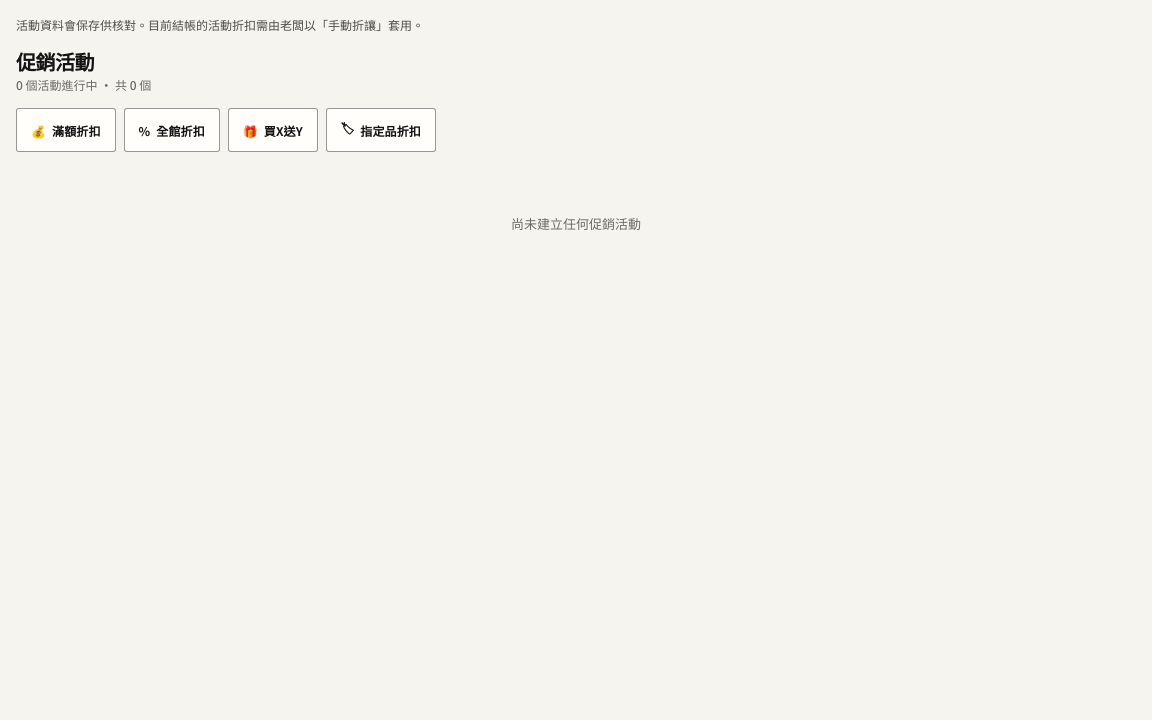
Test case: a reversed activity period preserves inputs and rejects saving
Click the button "💰 滿額折扣".
click(66, 130)  # box x1=16 y1=108 x2=116 y2=152
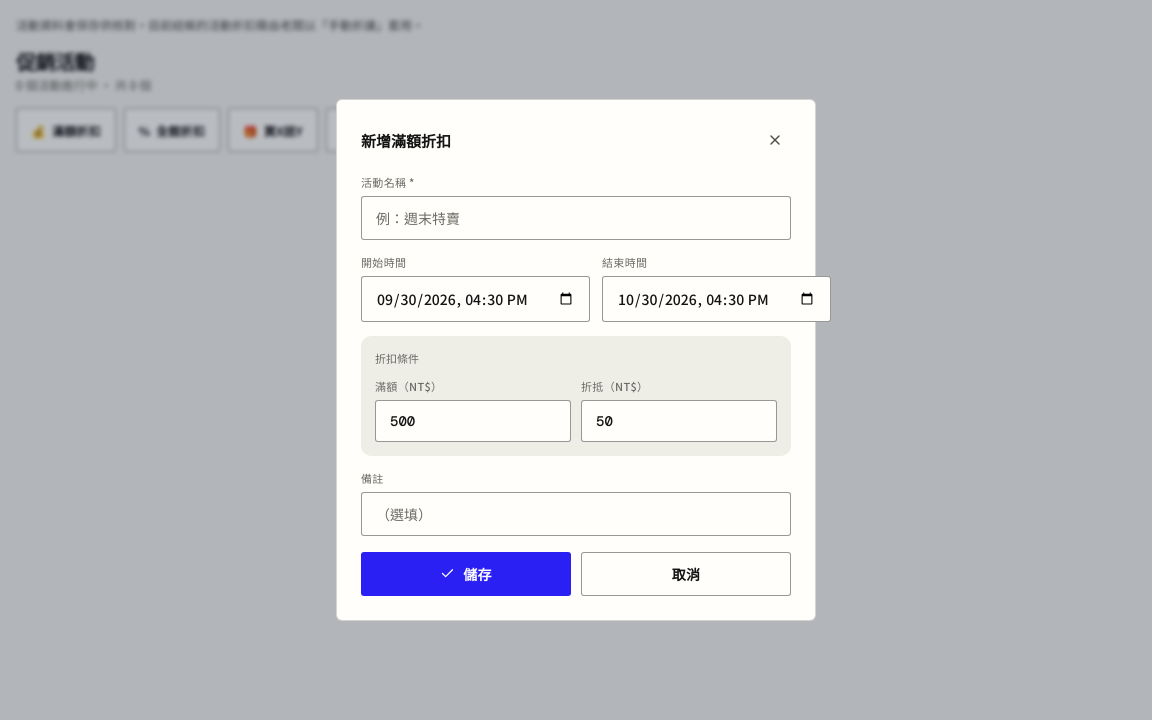
Type "fixture" into the field with placeholder "例：週末特賣".
click(576, 218); type("fixture")  # box x1=361 y1=196 x2=791 y2=240
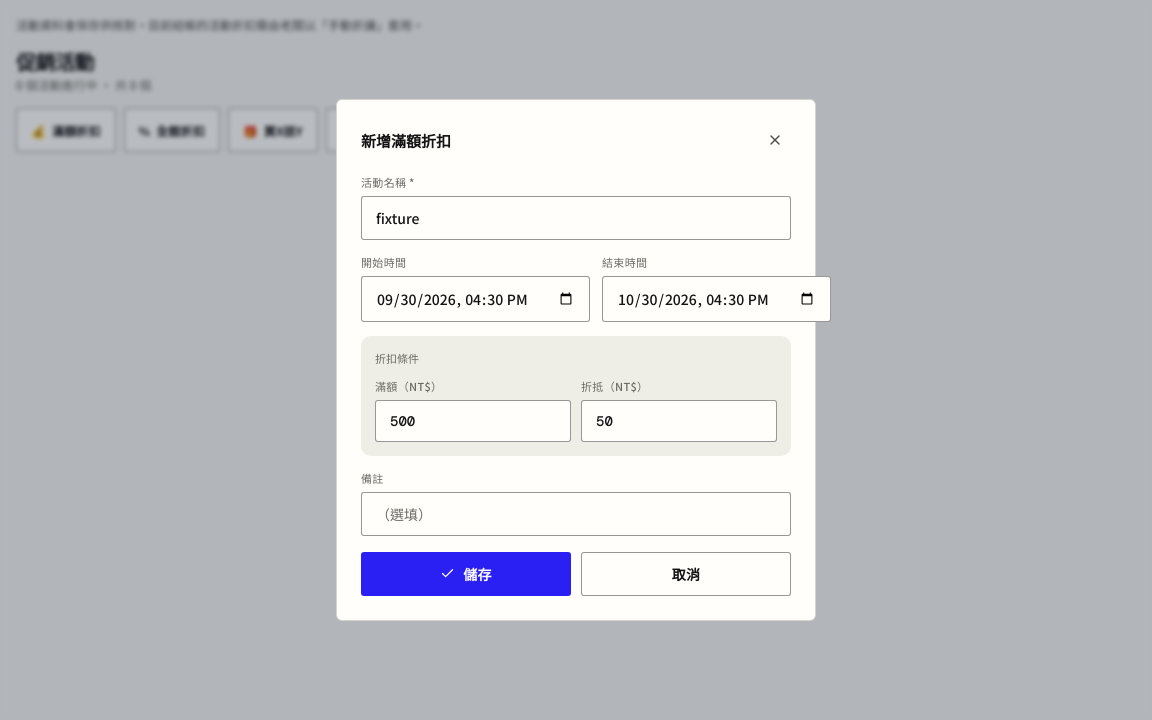
Replace the text in the field below "開始時間" with "2026-10-01T01:00" at {"x": 476, "y": 300}, box x1=361 y1=276 x2=590 y2=322
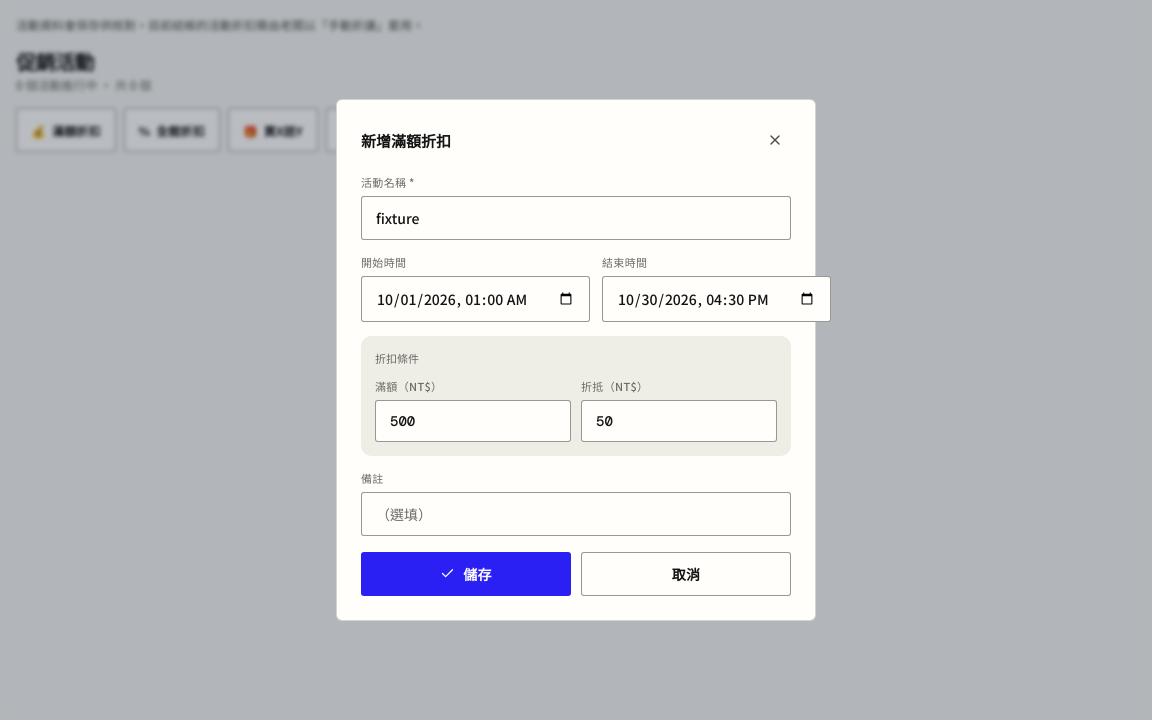
Replace the text in the field below "結束時間" with "2026-10-01T00:00" at {"x": 716, "y": 300}, box x1=602 y1=276 x2=831 y2=322
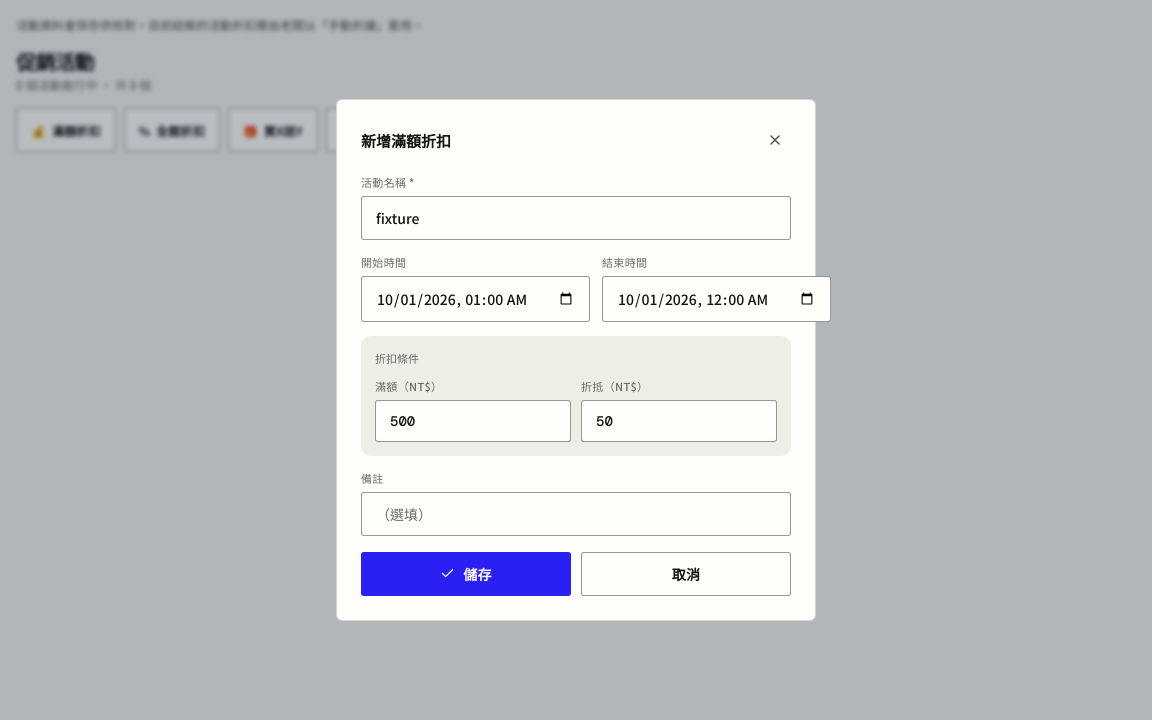
Click the button "儲存".
click(466, 574)  # box x1=361 y1=552 x2=571 y2=596
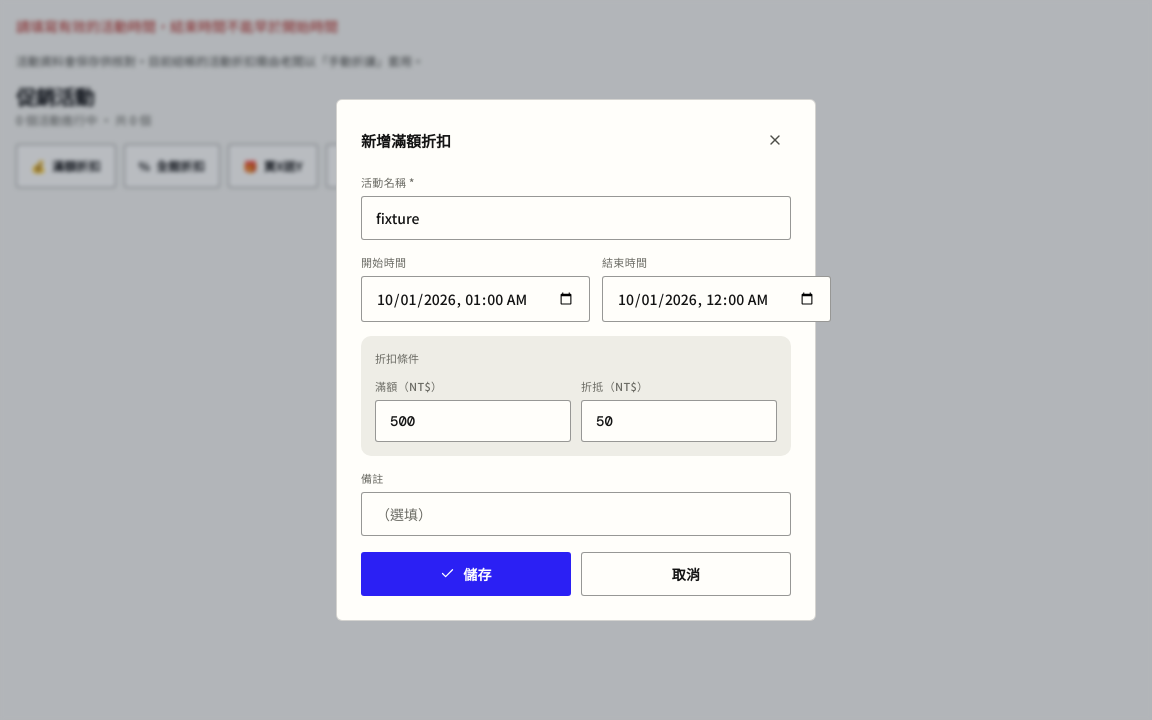
Expected: the message reads "請填寫有效的活動時間，結束時間不能早於開始時間", x1=16 y1=16 x2=338 y2=36
